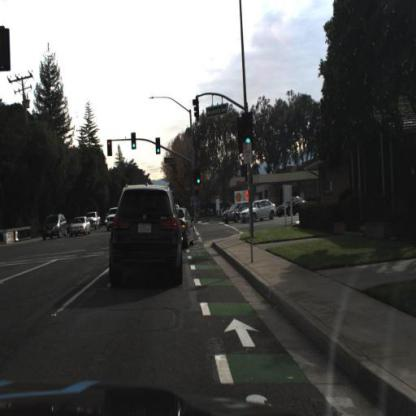car: (104, 177, 189, 295), (176, 201, 197, 253), (239, 200, 278, 225), (41, 211, 67, 244), (279, 197, 309, 216), (70, 214, 91, 241)
trafficLight: (106, 138, 114, 161)
trafficLight-Green: (241, 113, 257, 151), (155, 139, 162, 156), (131, 133, 137, 149), (196, 172, 202, 187)
